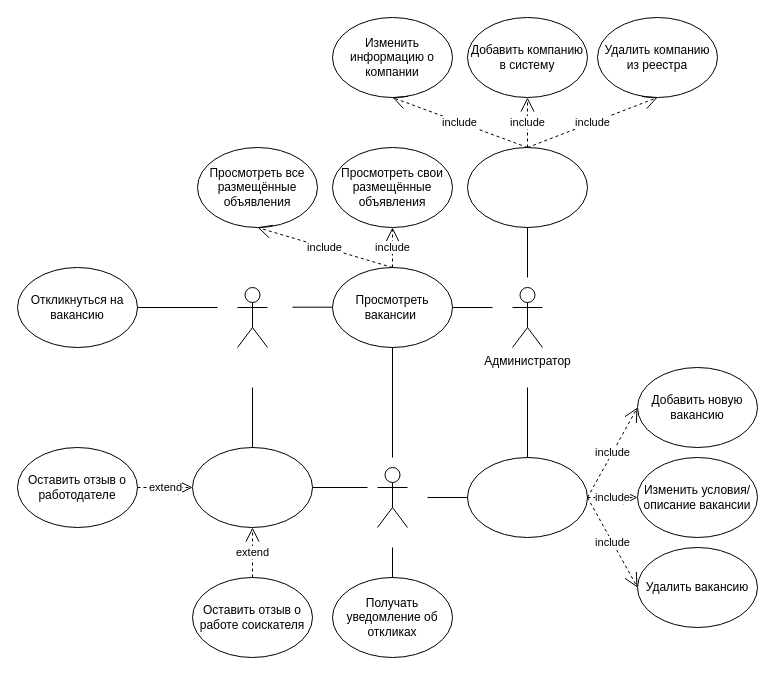
Image size: 775x675. Some labels were removed from this diagram. Here are the shapes that lost their labels. From the top down, the box of each, then its label:
(466, 146, 588, 228): Взаимодействие с компаниями
(236, 286, 268, 348): Подросток (соискатель)
(192, 446, 312, 528): Оставить отзыв
(376, 466, 408, 528): Компания
(466, 456, 588, 538): Заполнить информацию о вакансиях
